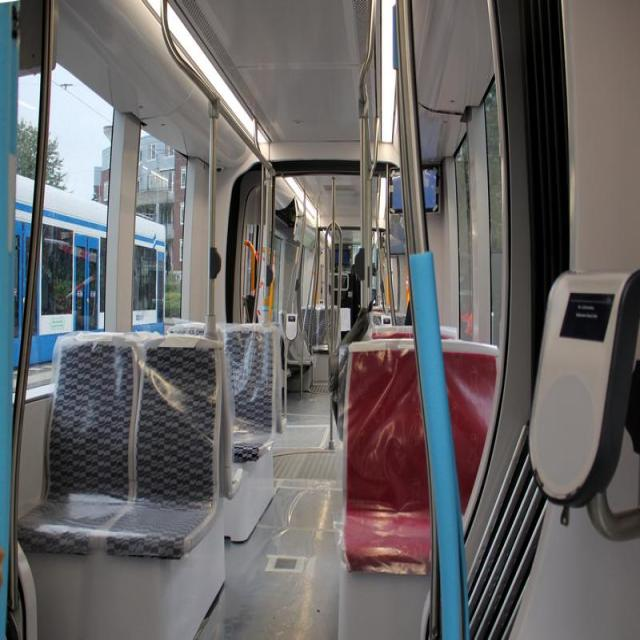empty-seat-frontal: (10, 333, 138, 557), (101, 336, 222, 559), (338, 340, 435, 576)
